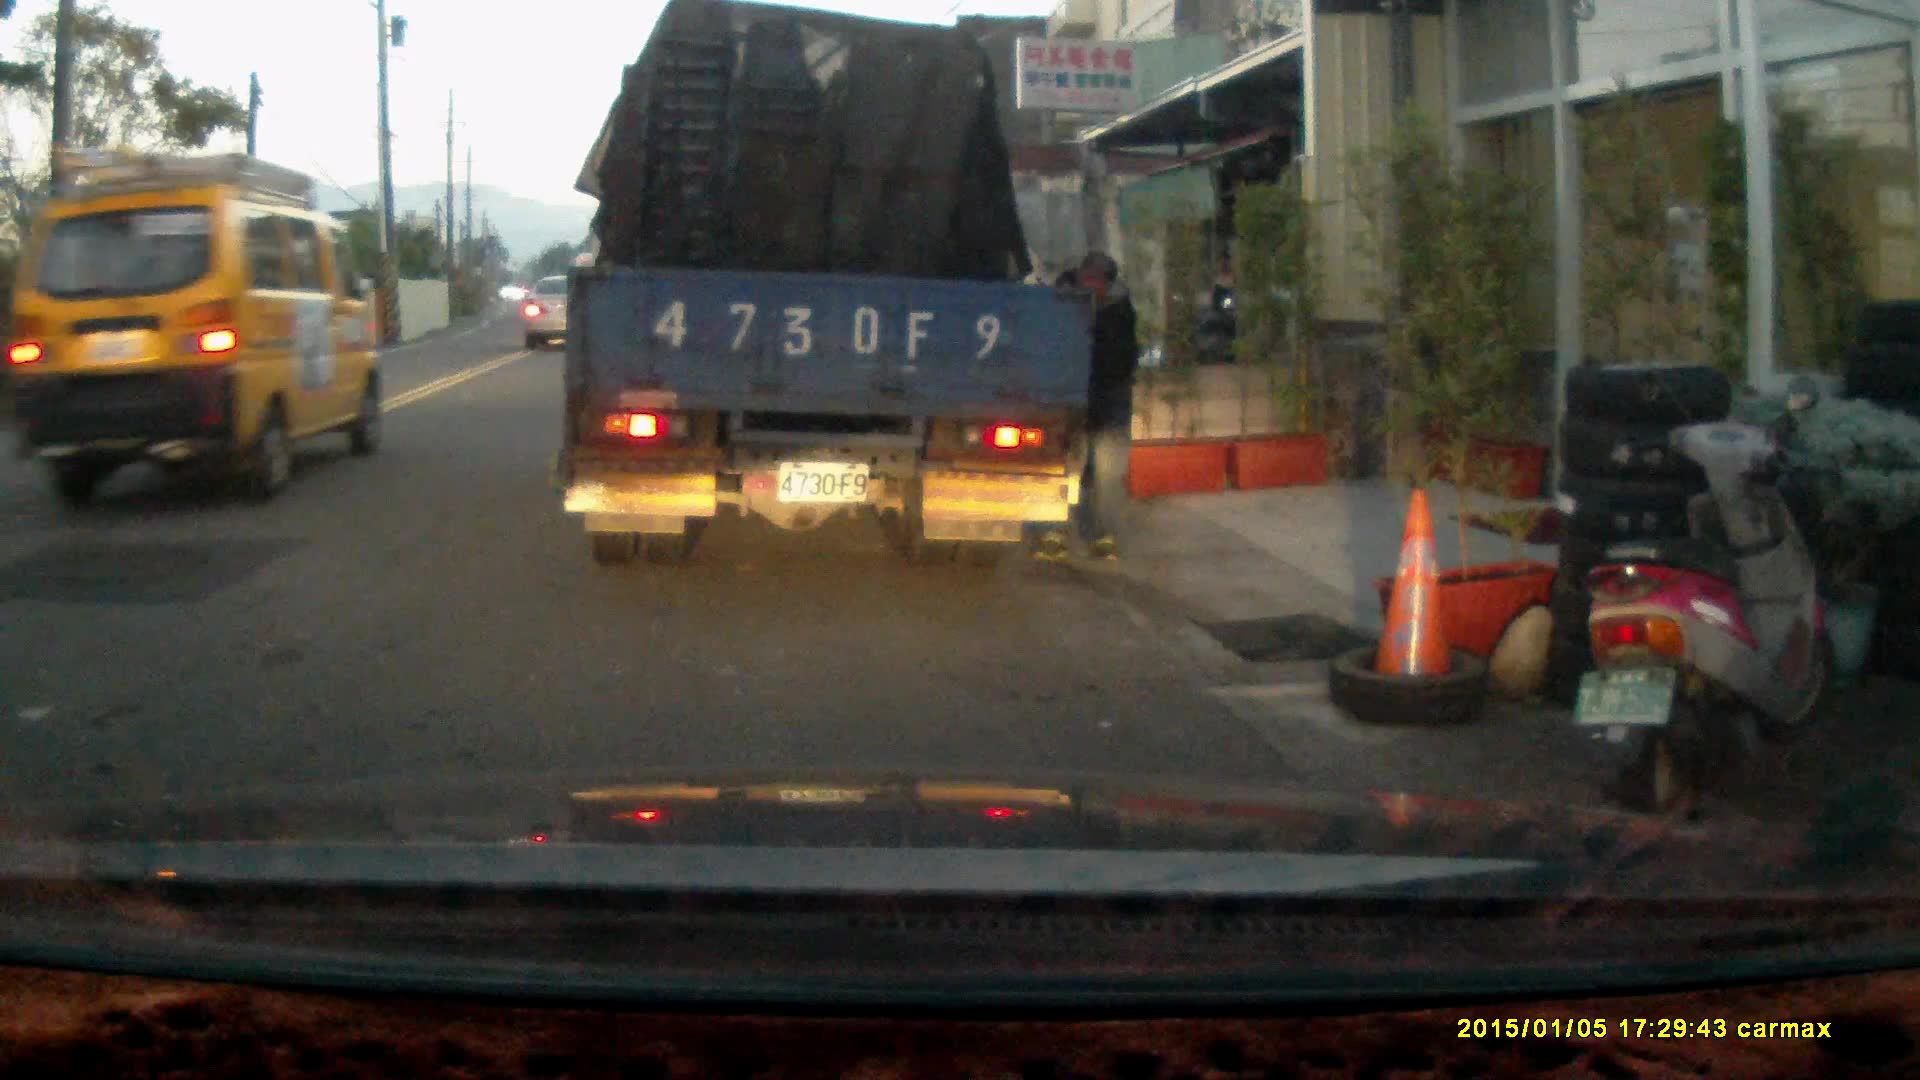pedestrian: (1021, 250, 1138, 563)
vehicle: (560, 24, 1080, 559), (7, 149, 380, 510), (525, 273, 592, 346)
